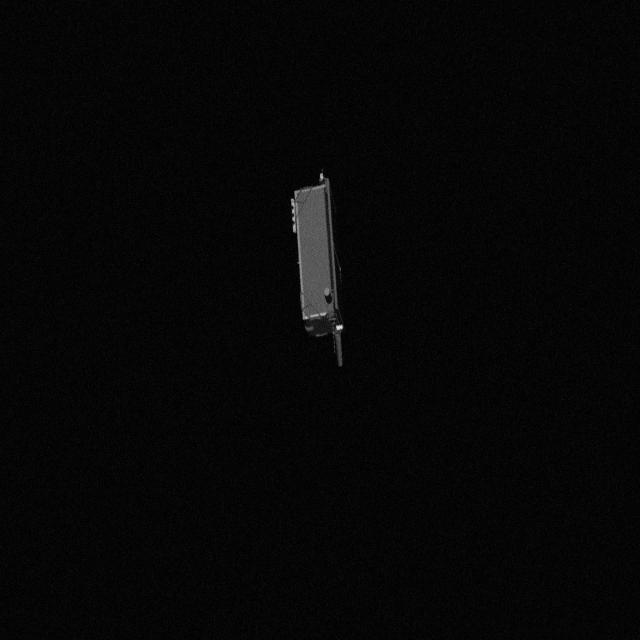medium_debris: (288, 174, 354, 380)
